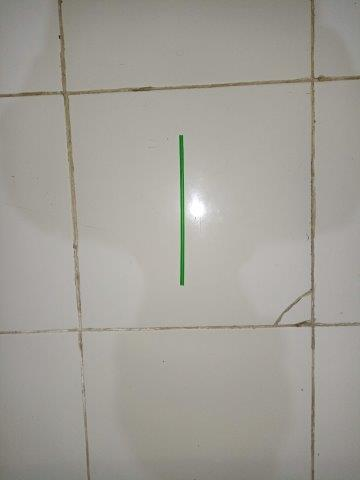sedotan: (179, 135, 184, 285)
